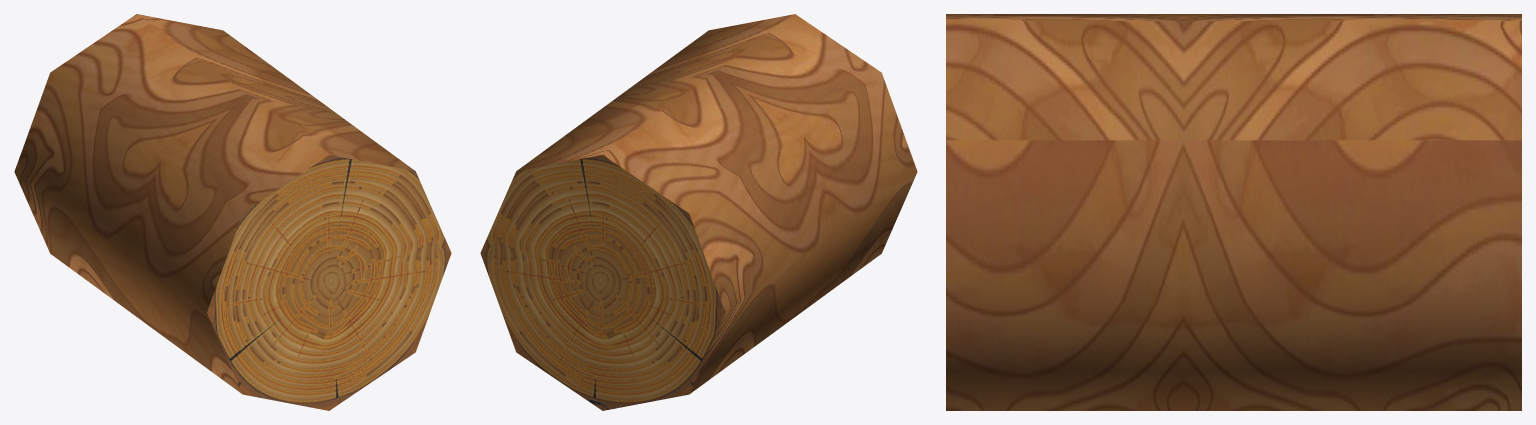
File: Beam_New (1).fbx
3 renders of one model, left to right at view 1: azimuth 30°, elevation 25°; view 2: azimuth 150°, elevation 25°; view 3: azimuth 270°, elevation 25°, orthographic. The views are drawn at different scales.
Visible parts, largest first — view 1: Beam_MDL; view 2: Beam_MDL; view 3: Beam_MDL.
Part boxes in pixels (x1=…): Beam_MDL: x1=14, y1=14, x2=451, y2=410; Beam_MDL: x1=480, y1=14, x2=917, y2=410; Beam_MDL: x1=946, y1=14, x2=1521, y2=410.
Size of the model in its own units: 4.07 by 4.07 by 5.54.
Materials: 1 (1 with a texture image).
